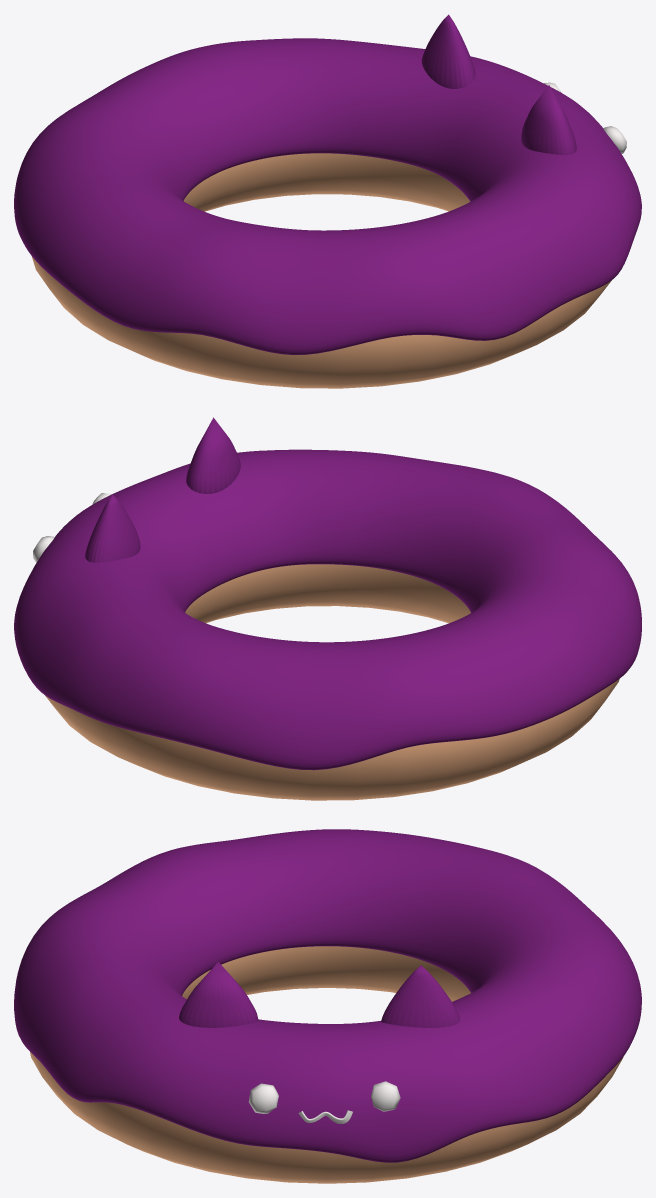
Rendered from bbb.fbx.
3 renders of one model, top to bottom at view 1: azimuth 30°, elevation 25°; view 2: azimuth 150°, elevation 25°; view 3: azimuth 270°, elevation 25°, orthographic.
Visible parts, largest first — view 1: Torus.001, Torus.003, Cone.001, Cone; view 2: Torus.001, Torus.003, Cone, Cone.001; view 3: Torus.001, Torus.003, Cone, Cone.001, Cube, Cube.001.
Part boxes in pixels (x1,y1,x2,y2): Torus.001: (14, 38, 641, 354); Torus.003: (31, 153, 611, 388); Cone.001: (421, 14, 475, 88); Cone: (521, 85, 576, 154); Torus.001: (14, 449, 641, 770); Torus.003: (45, 564, 619, 800); Cone: (186, 417, 240, 493); Cone.001: (85, 494, 140, 562); Torus.001: (14, 829, 641, 1162); Torus.003: (30, 946, 623, 1183); Cone: (179, 962, 258, 1027); Cone.001: (381, 965, 460, 1027); Cube: (249, 1083, 278, 1113); Cube.001: (370, 1081, 400, 1111).
Size of the model in its own units: 565 by 198 by 563.
